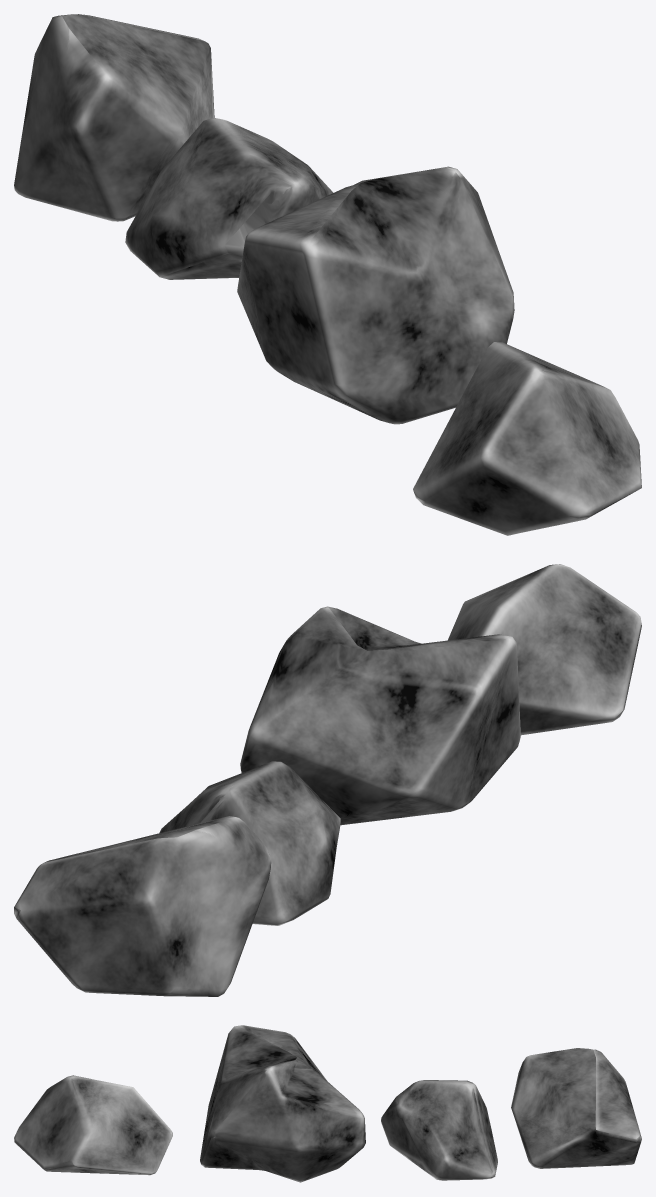
The model's file is Rocks.fbx.
3 renders of one model, top to bottom at view 1: azimuth 30°, elevation 25°; view 2: azimuth 150°, elevation 25°; view 3: azimuth 270°, elevation 25°, orthographic. The views are drawn at different scales.
Visible parts, largest first — view 1: Rock_02_LOD0, Rock_04_LOD0, Rock_01_LOD0, Rock_03_LOD0; view 2: Rock_02_LOD0, Rock_04_LOD0, Rock_01_LOD0, Rock_03_LOD0; view 3: Rock_02_LOD0, Rock_04_LOD0, Rock_01_LOD0, Rock_03_LOD0.
Part boxes in pixels (x1,y1,x2,y2): Rock_02_LOD0: [237, 166, 514, 424]; Rock_04_LOD0: [14, 14, 214, 221]; Rock_01_LOD0: [413, 342, 641, 535]; Rock_03_LOD0: [125, 118, 333, 279]; Rock_02_LOD0: [240, 606, 520, 825]; Rock_04_LOD0: [14, 816, 271, 996]; Rock_01_LOD0: [447, 564, 641, 735]; Rock_03_LOD0: [159, 761, 340, 925]; Rock_02_LOD0: [200, 1025, 365, 1182]; Rock_04_LOD0: [511, 1048, 641, 1168]; Rock_01_LOD0: [14, 1075, 172, 1175]; Rock_03_LOD0: [381, 1080, 497, 1180].
Size of what is drawn, in the model's own units: 130 by 505 by 109.
